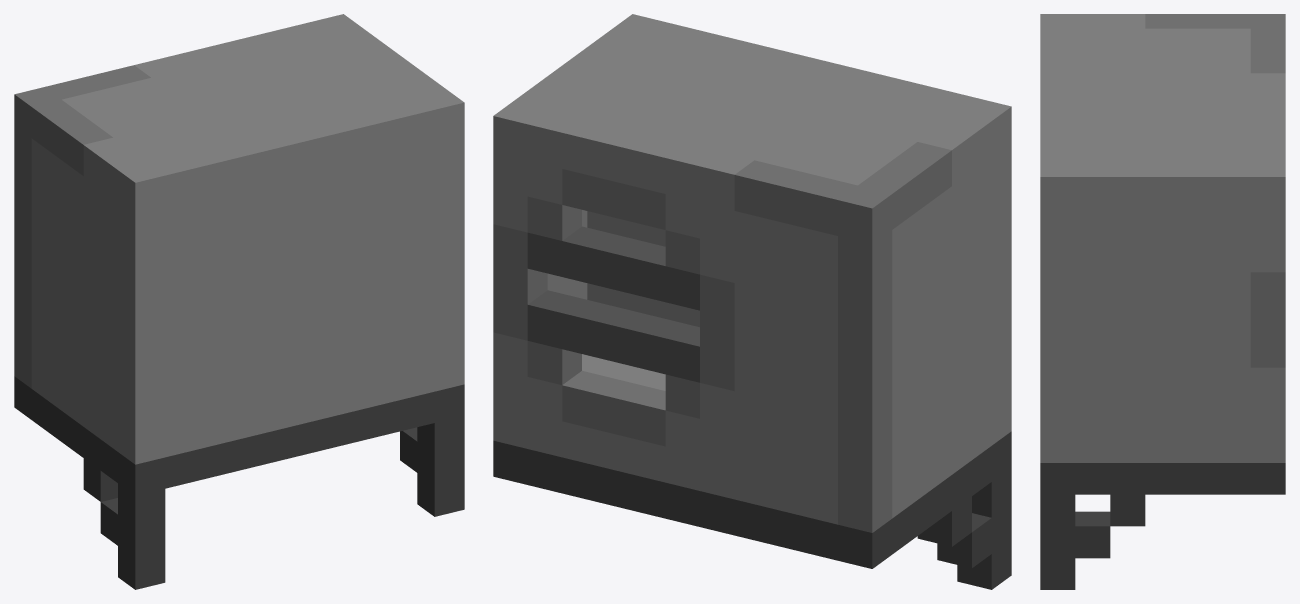
The model's file is condenserUnitTypeC.glb.
3 renders of one model, left to right at view 1: azimuth 30°, elevation 25°; view 2: azimuth 150°, elevation 25°; view 3: azimuth 270°, elevation 25°, orthographic. The views are drawn at different scales.
Parts seen in each view (by area): view 1: ObjObject; view 2: ObjObject; view 3: ObjObject.
Boxes of the visible parts, bbox=[...] form: ObjObject: bbox=[14, 14, 464, 589]; ObjObject: bbox=[493, 14, 1011, 589]; ObjObject: bbox=[1040, 14, 1285, 589].
Bounding box in the file's own units: 1.1 × 1.3 × 0.7.
1 material, 1 textured.
